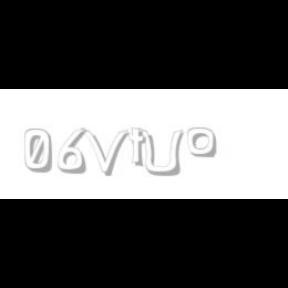0: (24, 128, 56, 174)
6: (58, 128, 86, 176)
U: (138, 128, 184, 178)
V: (81, 128, 129, 176)
o: (188, 128, 216, 158)
t: (129, 128, 151, 168)
